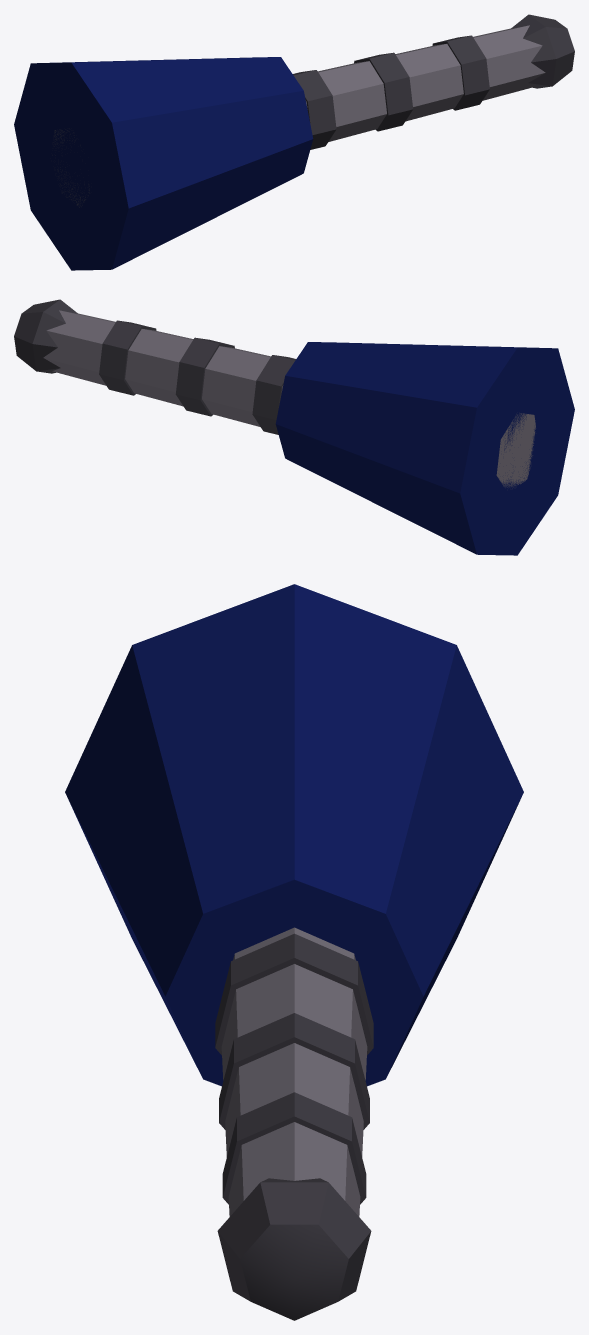
Rendered from sb_shin.glb.
The picture shows the model from 3 angles, top to bottom: view 1: azimuth 30°, elevation 25°; view 2: azimuth 150°, elevation 25°; view 3: azimuth 270°, elevation 25°; orthographic projection. The views are drawn at different scales.
Visible parts, largest first — view 1: teil0, teil1, teil2; view 2: teil0, teil1, teil2; view 3: teil0, teil2, teil1.
Boxes of the visible parts, <box> form: teil0: <box>14,57,313,270</box>; teil1: <box>52,25,545,207</box>; teil2: <box>293,14,574,149</box>; teil0: <box>275,342,574,555</box>; teil1: <box>43,310,535,488</box>; teil2: <box>14,299,295,434</box>; teil0: <box>65,584,523,1086</box>; teil2: <box>215,933,373,1320</box>; teil1: <box>221,927,367,1216</box>.
Bounding box in the file's own units: 0.0805 × 0.032 × 0.032.
